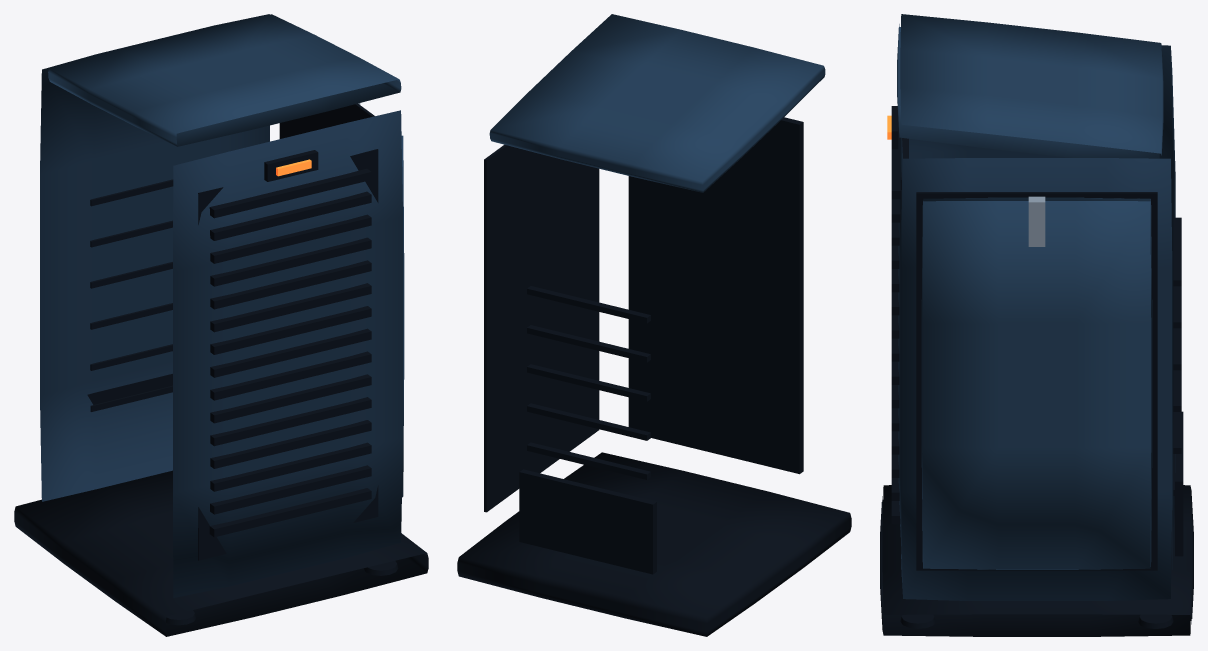
File: model-modern-06.glb
3 renders of one model, left to right at view 1: azimuth 30°, elevation 25°; view 2: azimuth 150°, elevation 25°; view 3: azimuth 270°, elevation 25°, orthographic. The views are drawn at different scales.
Parts seen in each view (by area): view 1: 机箱, 顶盖, 底座, 前面板饰框, 散热格栅15, 散热格栅1, 散热格栅14, 散热格栅2, 散热格栅13, 散热格栅8, 散热格栅6, 散热格栅7 (+17 smaller); view 2: 前面板饰框, 顶盖, 底座, 侧板接缝, 接口面板, 后部散热槽5, 后部散热槽6, 后部散热槽2, 后部散热槽3, 后部散热槽4; view 3: 可拆侧板, 机箱, 顶盖, 底座, 侧板接缝, 接口面板, 侧板扣手, 后部散热槽6, 散热格栅15, 脚垫右后, 脚垫右前.
Boxes of the visible parts, <box> form: 机箱: <box>40,14,402,597</box>; 顶盖: <box>48,14,401,146</box>; 底座: <box>14,470,428,636</box>; 前面板饰框: <box>198,149,378,560</box>; 散热格栅15: <box>209,168,371,218</box>; 散热格栅1: <box>209,488,371,537</box>; 散热格栅14: <box>210,191,371,240</box>; 散热格栅2: <box>210,465,371,514</box>; 散热格栅13: <box>210,214,371,263</box>; 散热格栅8: <box>210,328,371,377</box>; 散热格栅6: <box>210,374,371,423</box>; 散热格栅7: <box>210,351,371,400</box>; 前面板饰框: <box>628,117,803,474</box>; 顶盖: <box>489,14,825,192</box>; 底座: <box>457,452,851,636</box>; 侧板接缝: <box>484,144,599,512</box>; 接口面板: <box>519,469,656,574</box>; 后部散热槽5: <box>527,325,650,362</box>; 后部散热槽6: <box>527,286,650,323</box>; 后部散热槽2: <box>527,442,650,479</box>; 后部散热槽3: <box>527,403,650,440</box>; 后部散热槽4: <box>527,364,650,401</box>; 可拆侧板: <box>921,197,1152,569</box>; 机箱: <box>898,45,1175,600</box>; 顶盖: <box>897,14,1163,158</box>; 底座: <box>880,485,1193,636</box>; 侧板接缝: <box>916,192,1157,570</box>; 接口面板: <box>1175,411,1183,556</box>; 侧板扣手: <box>1028,196,1045,246</box>; 后部散热槽6: <box>1173,217,1181,286</box>; 散热格栅15: <box>891,123,900,199</box>; 脚垫右后: <box>1138,614,1173,628</box>; 脚垫右前: <box>900,614,935,628</box>.
Size of the model in its own units: 0.191 by 0.3375 by 0.19.
